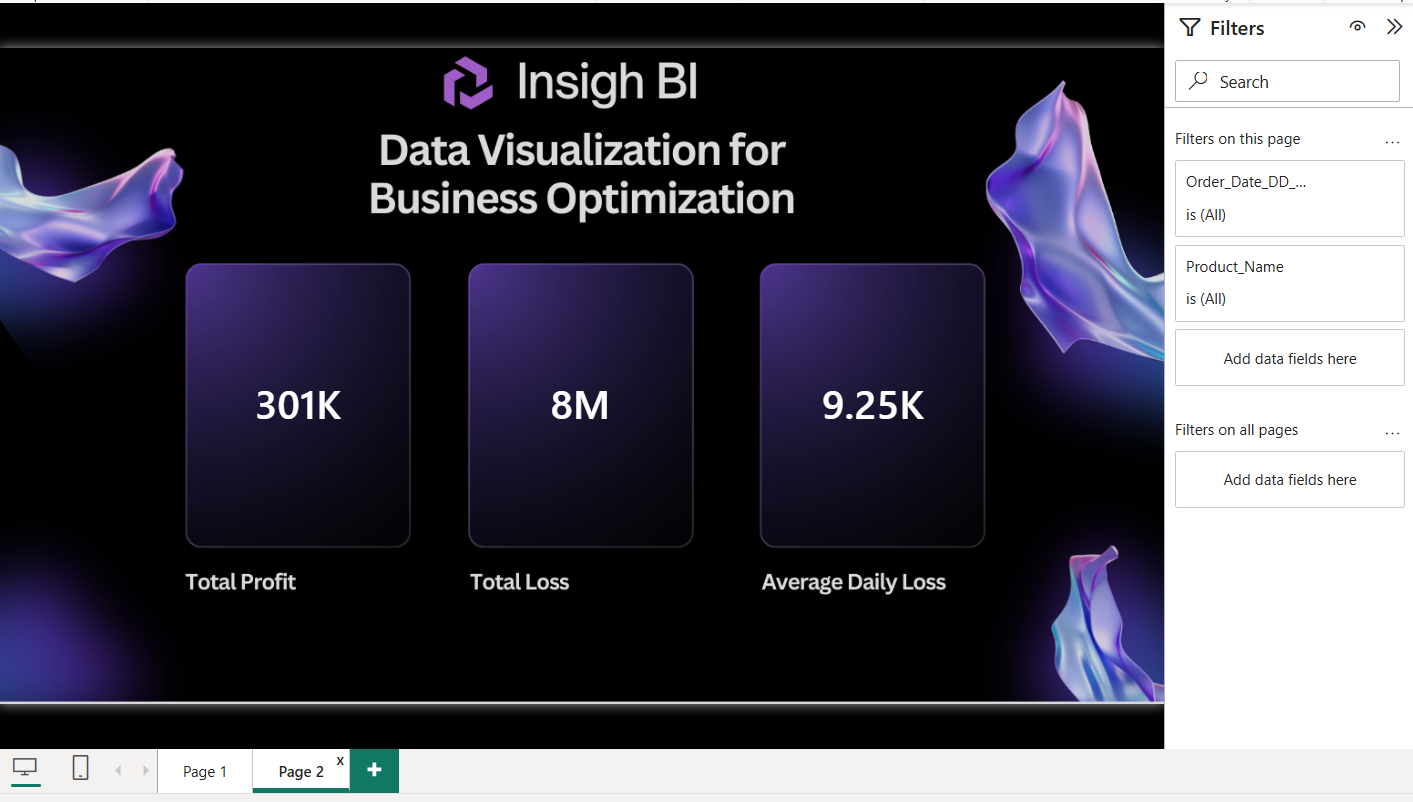

Layout of this report page (visuals, bound fields, positions):
{"tool":"powerbi","page":{"name":"Page 2","canvas":[1920,1080],"ordinal":1},"visuals":[{"type":"cardVisual","fields":{"Data":["New Measure.Total Profit"]},"box":[336.6,401.7,313.1,363.7],"z":0},{"type":"cardVisual","fields":{"Data":["New Measure.Total Loss"]},"box":[802.7,401.4,313.1,363.7],"z":1},{"type":"cardVisual","fields":{"Data":["New Measure.Average Loss Per Day"]},"box":[1284.4,401.4,313.1,363.7],"z":2}]}

Visuals, with their boxes on the page's 1920x1080 design canvas (x1, y1, x2, y2). These are canvas units, not pixel positions in the 1413x802 screenshot, which may show the page scaled, cropped or inside an application window:
cardVisual - New Measure.Total Profit: region(337, 402, 650, 765)
cardVisual - New Measure.Total Loss: region(803, 401, 1116, 765)
cardVisual - New Measure.Average Loss Per Day: region(1284, 401, 1598, 765)
